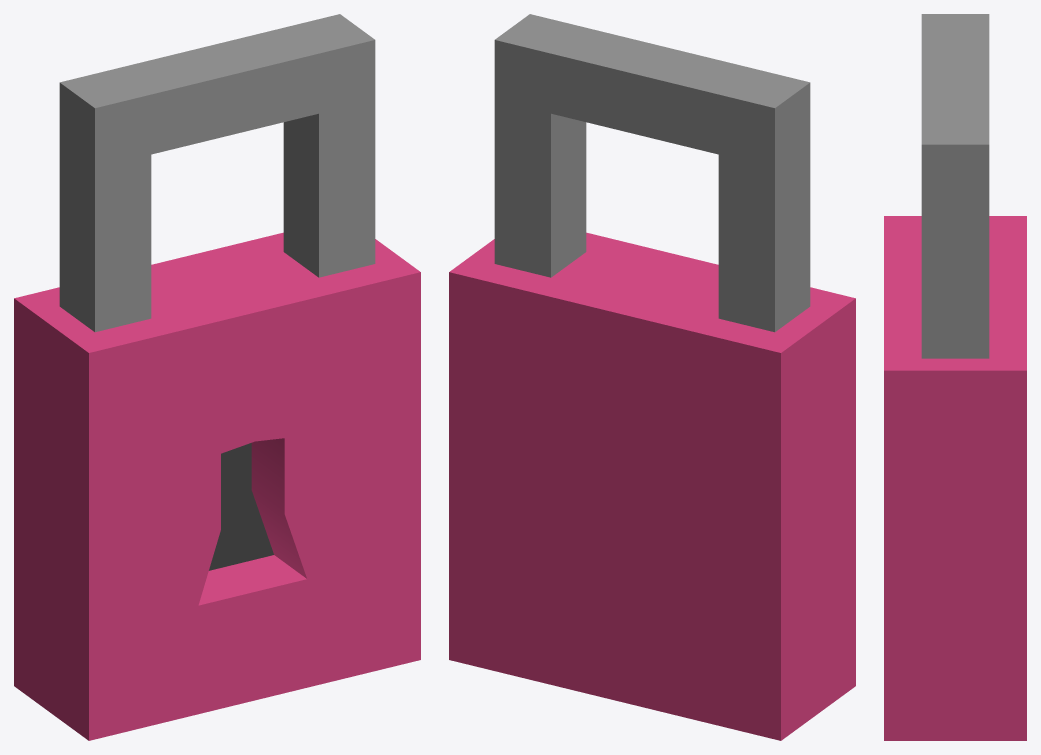
Rendered from GlassLockRed.fbx.
The picture shows the model from 3 angles, left to right: view 1: azimuth 30°, elevation 25°; view 2: azimuth 150°, elevation 25°; view 3: azimuth 270°, elevation 25°; orthographic projection. The views are drawn at different scales.
Parts seen in each view (by area): view 1: GlassLockRed; view 2: GlassLockRed; view 3: GlassLockRed.
Boxes of the visible parts, x1=… form: GlassLockRed: x1=14, y1=14, x2=420, y2=740; GlassLockRed: x1=449, y1=14, x2=855, y2=740; GlassLockRed: x1=884, y1=14, x2=1026, y2=740.
Bounding box in the file's own units: 0.3022 × 0.5325 × 0.118.
